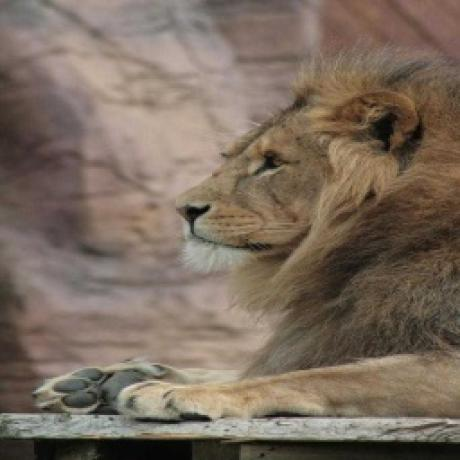Lion: (30, 62, 460, 418)
